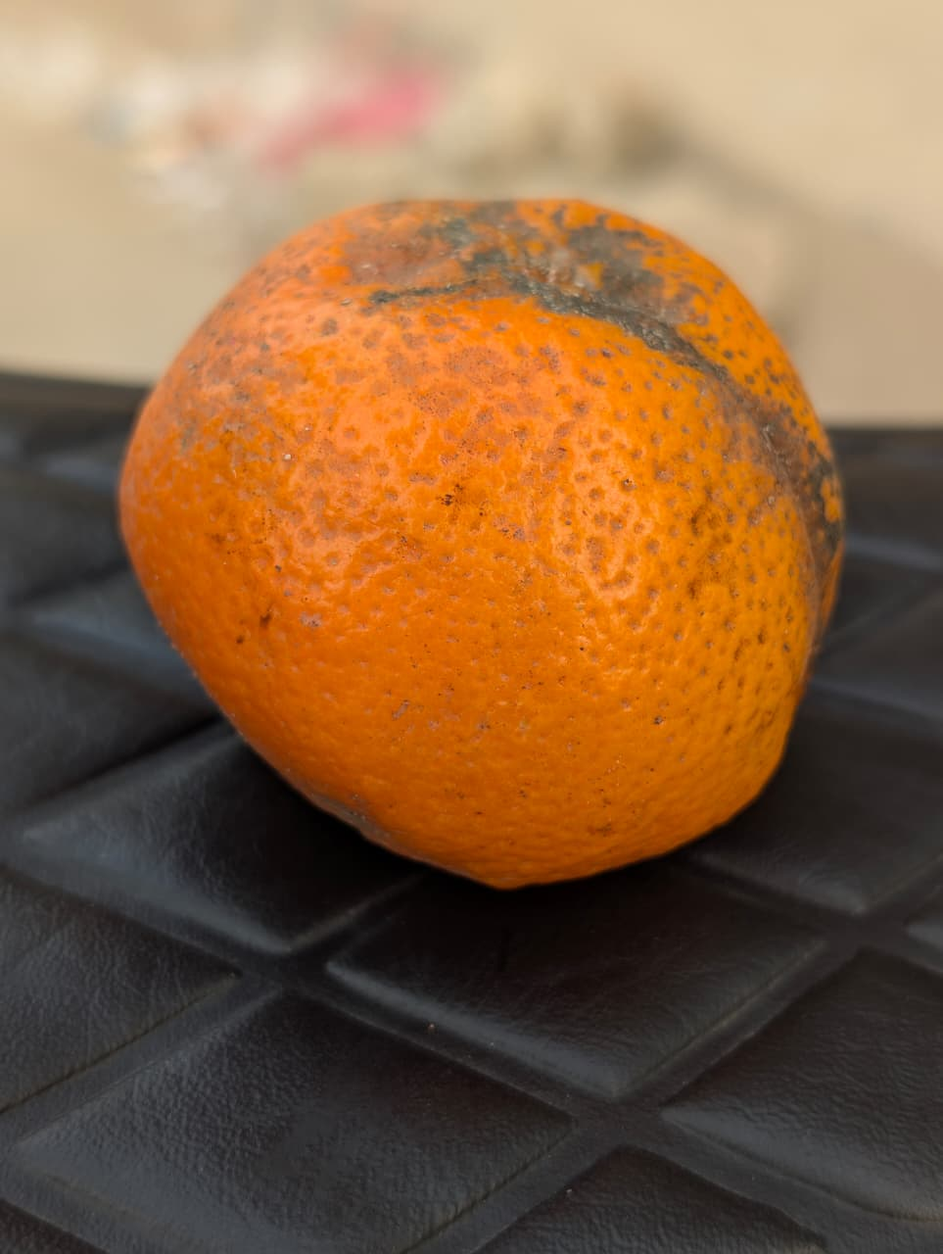orange: (106, 197, 749, 1135)
